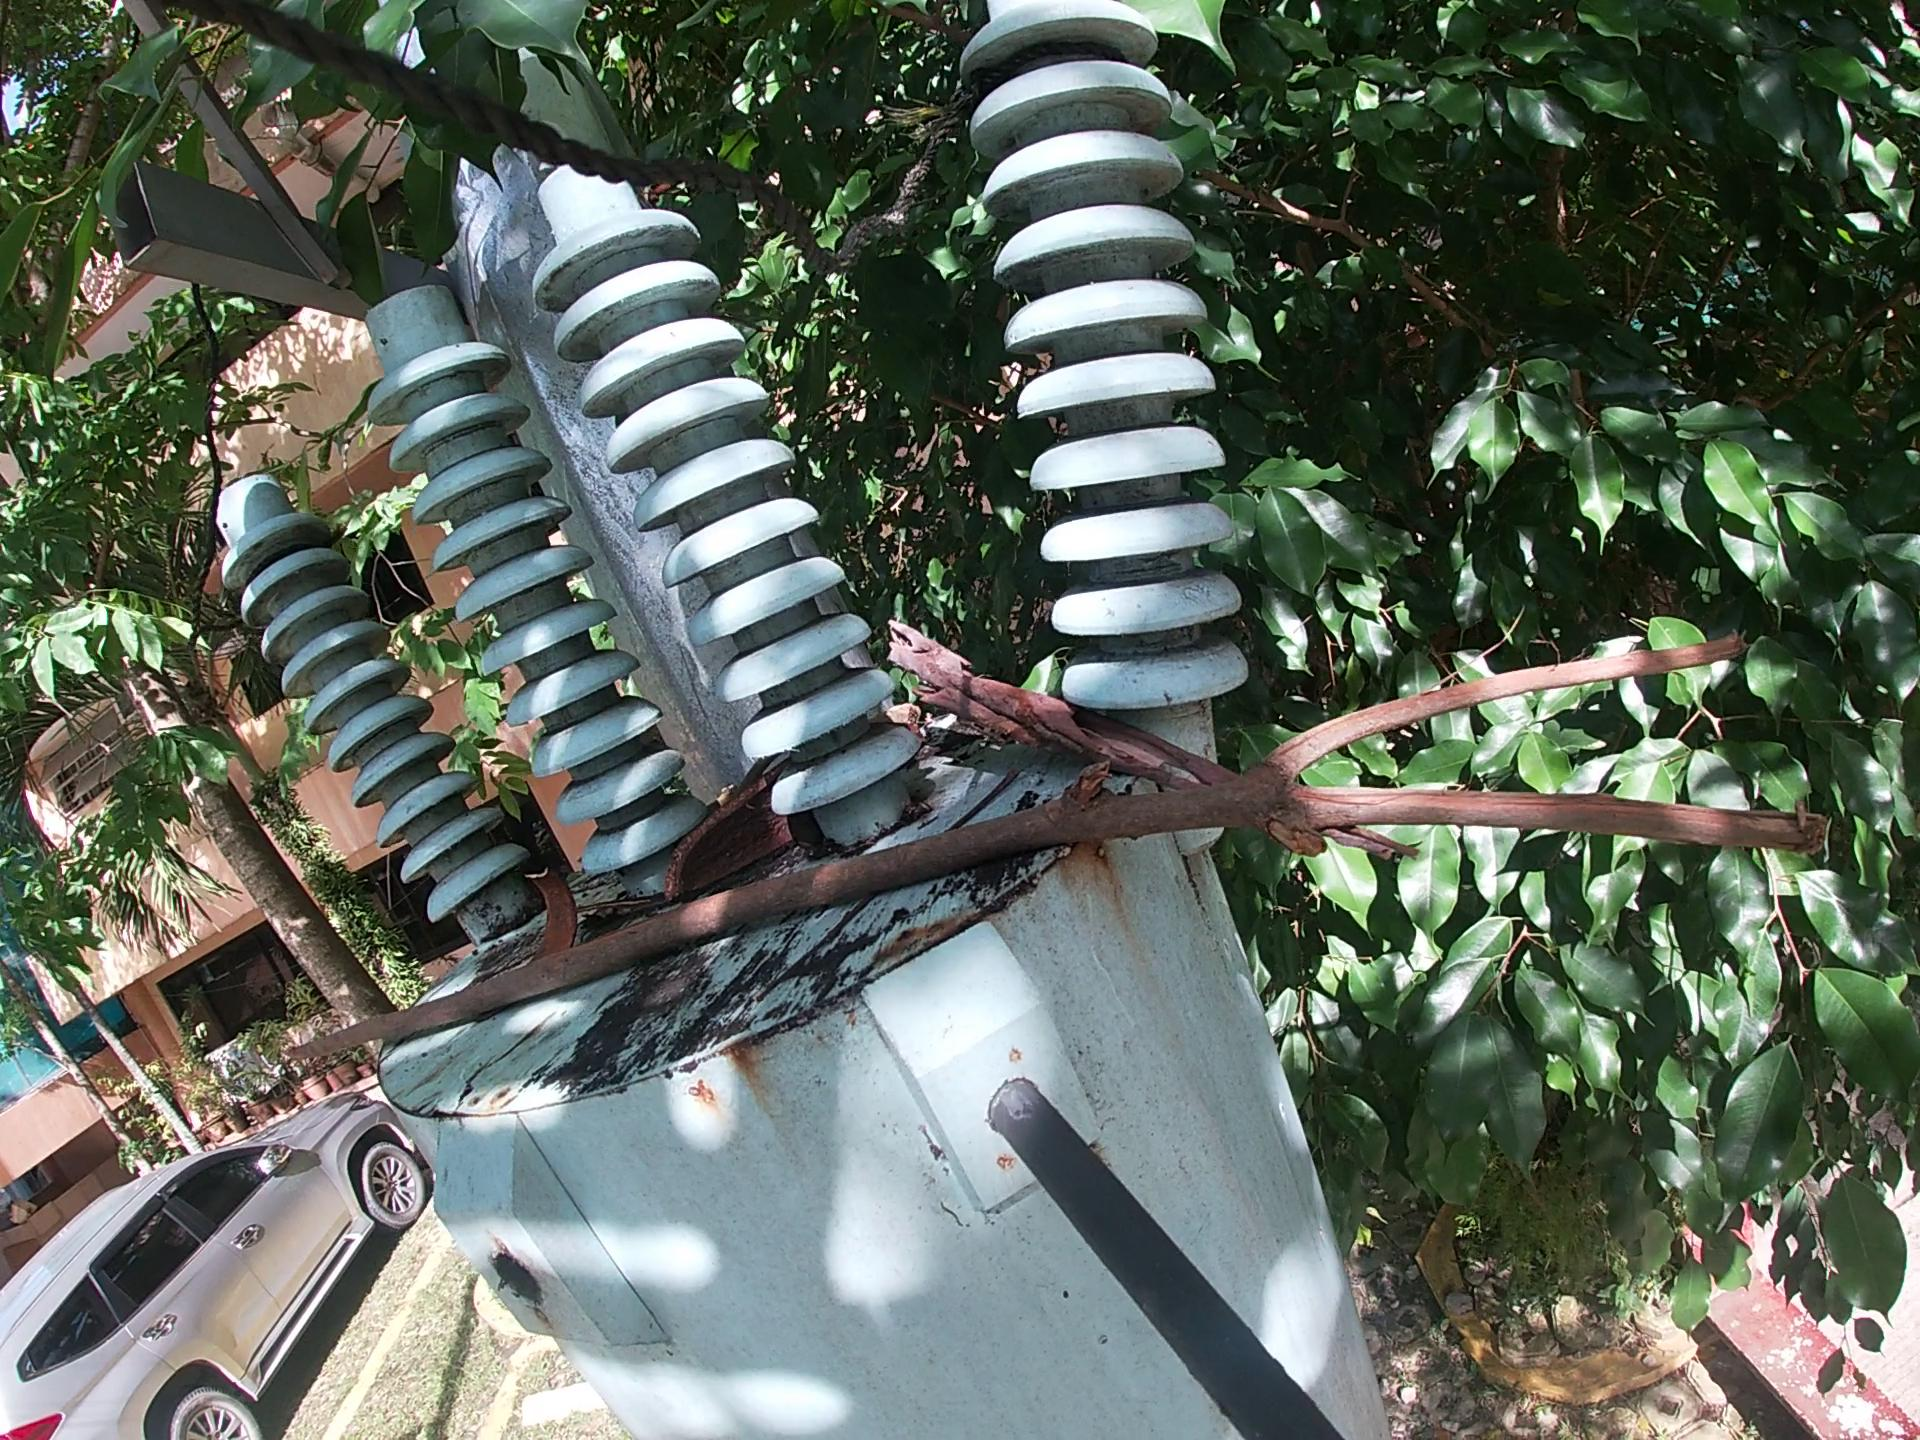mahogany fruit: (652, 750, 810, 908), (516, 864, 581, 968)
tree branch: (272, 608, 1852, 1085), (880, 616, 1426, 873)
